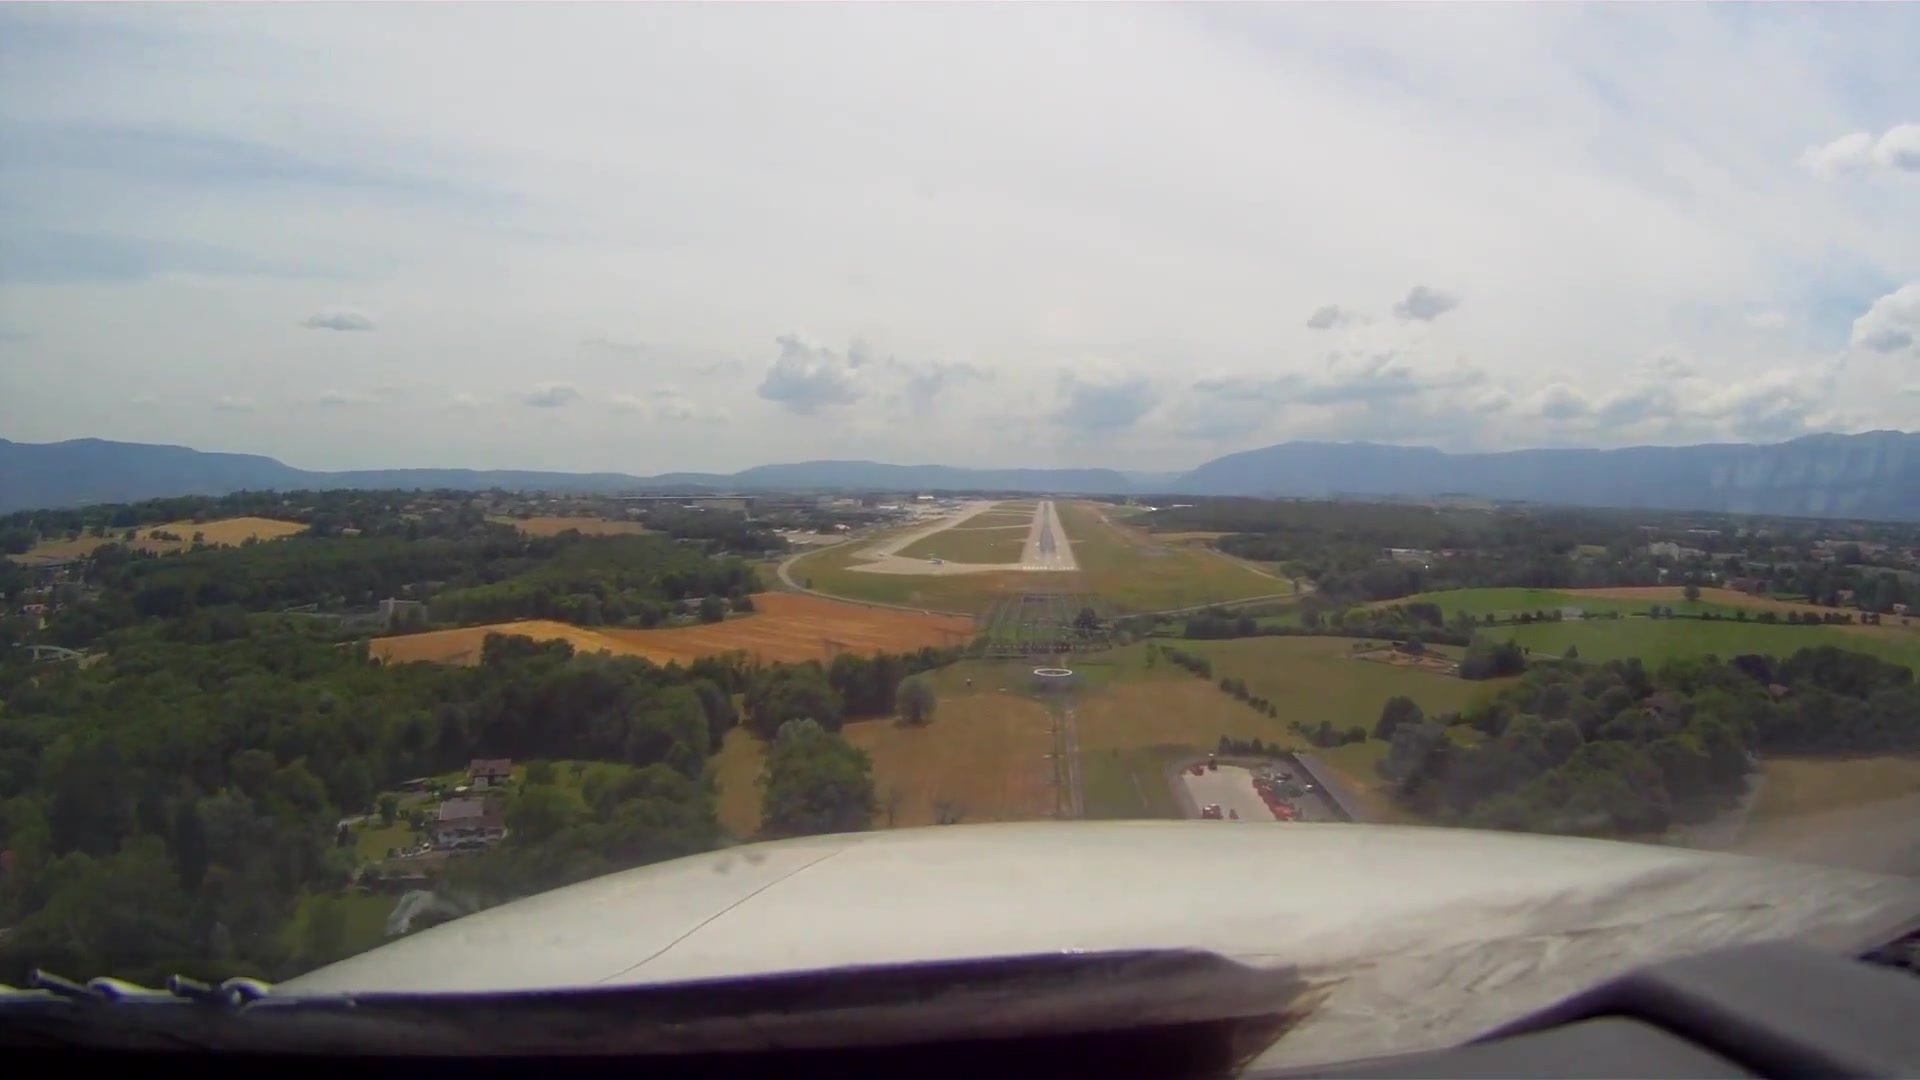entrance: (1022, 563, 1075, 572)
runway: (1015, 498, 1080, 576)
